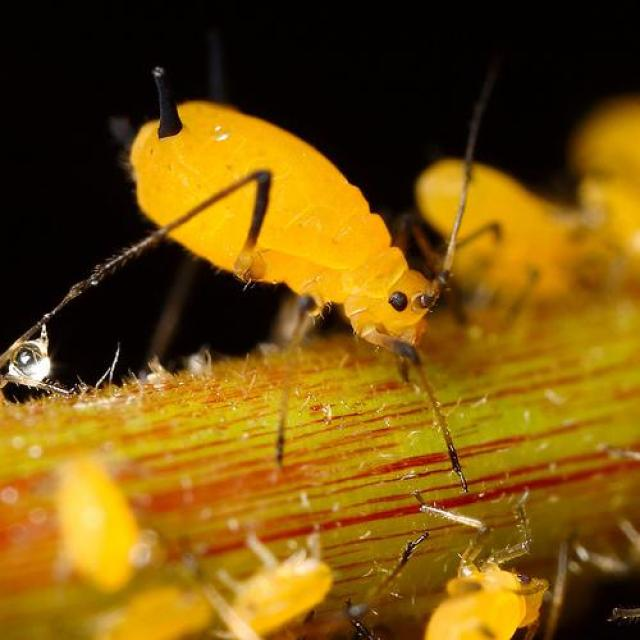Aphids: (49, 66, 498, 472)
